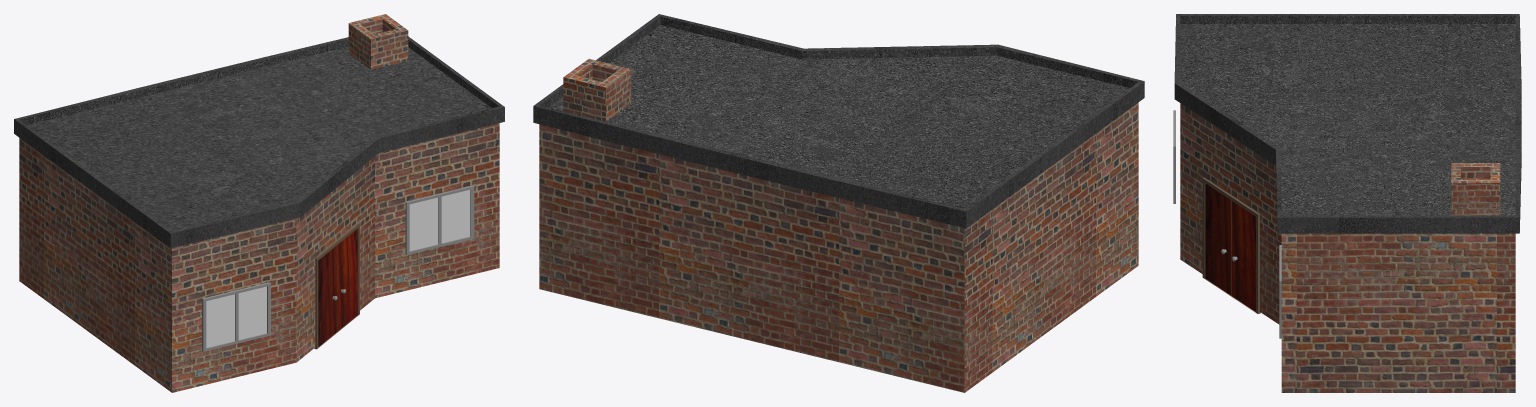
Rendered from OLD_HOUSE_02.fbx.
3 views of the same model, side by side, from view 1: azimuth 30°, elevation 25°; view 2: azimuth 150°, elevation 25°; view 3: azimuth 270°, elevation 25° (orthographic). The views are drawn at different scales.
Visible parts, largest first — view 1: OLD_HOUSE_02; view 2: OLD_HOUSE_02; view 3: OLD_HOUSE_02.
Part boxes in pixels (box(x1,y1,x2,y2)): OLD_HOUSE_02: box(14, 14, 504, 392); OLD_HOUSE_02: box(533, 14, 1144, 392); OLD_HOUSE_02: box(1173, 14, 1521, 392).
Bounding box in the file's own units: 1004 × 470 × 726.
